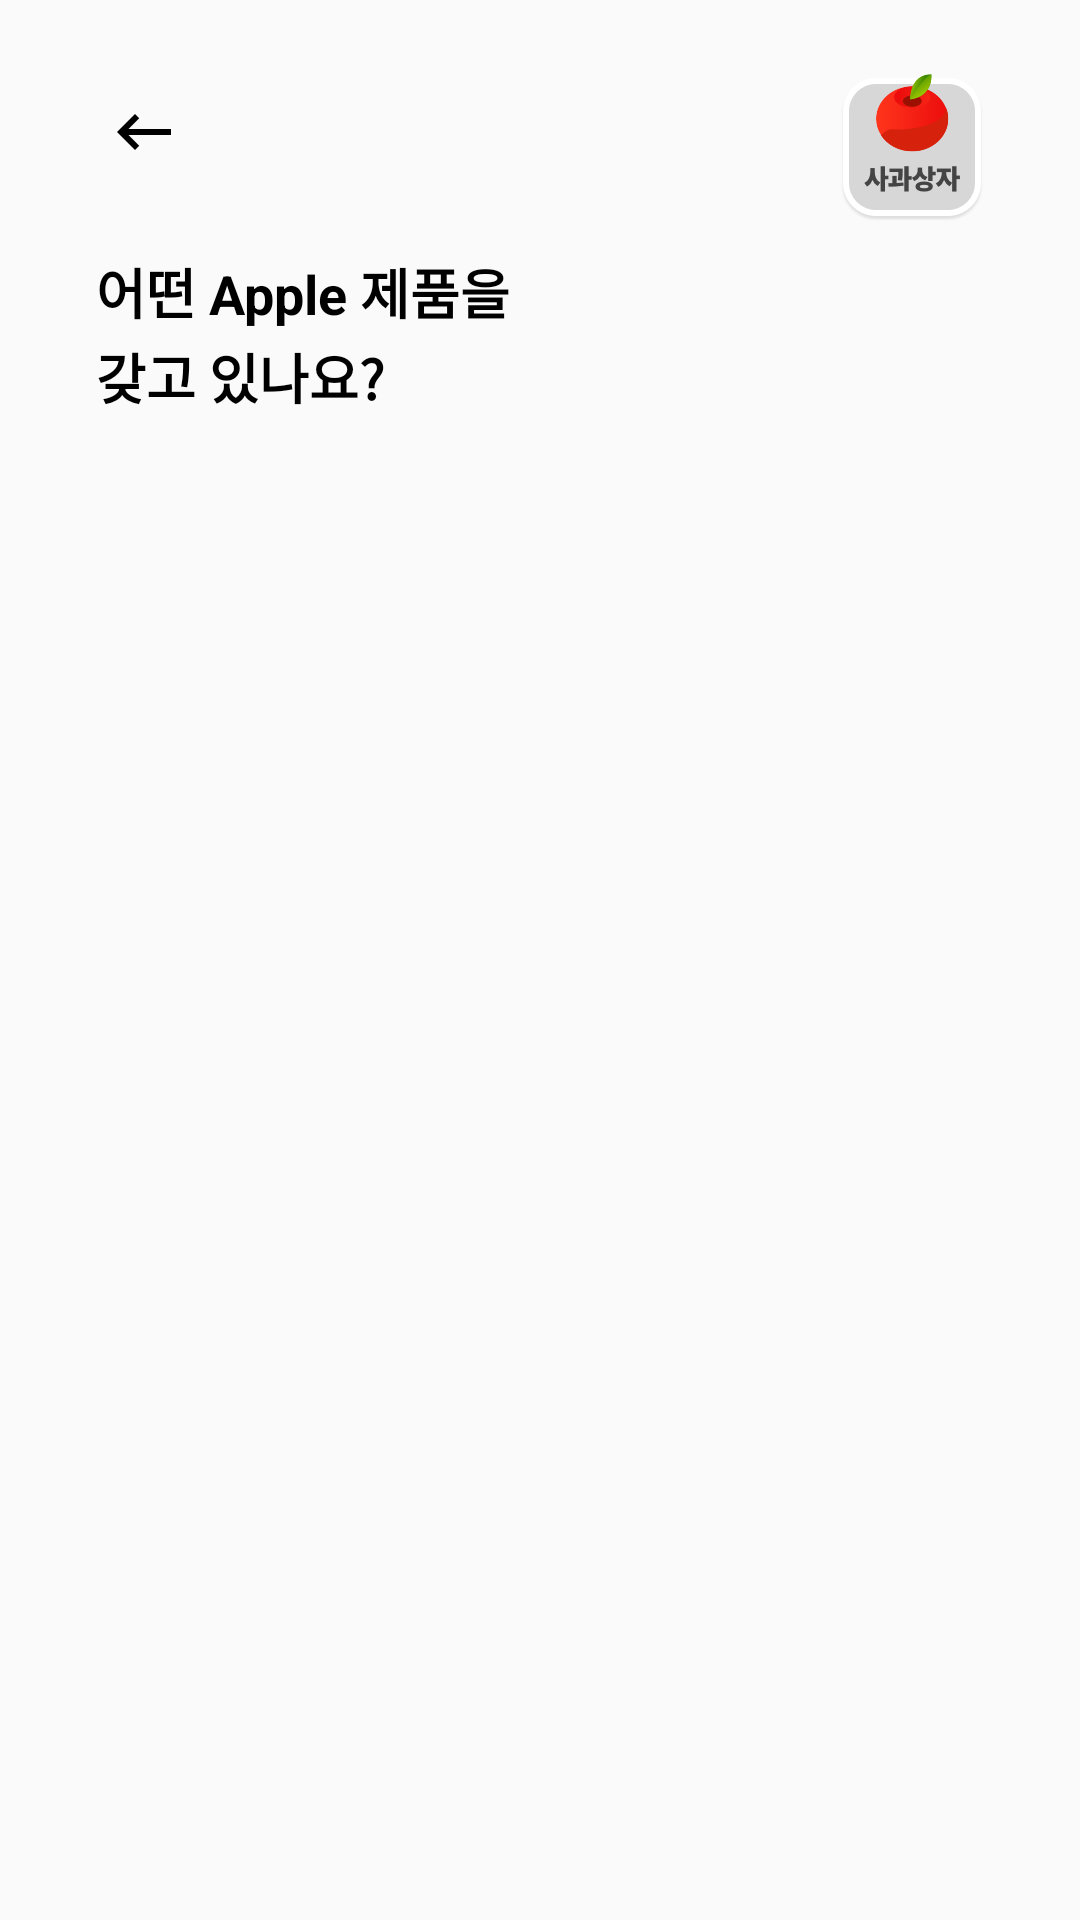

Where to tap for icons on this 1080 × 1920 app screen, as point (x, y):
back: point (144, 132)
